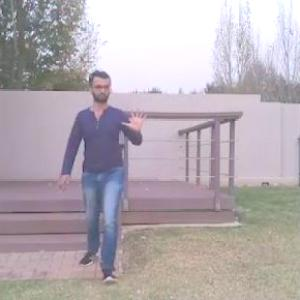follow_hand: (121, 102, 151, 136)
